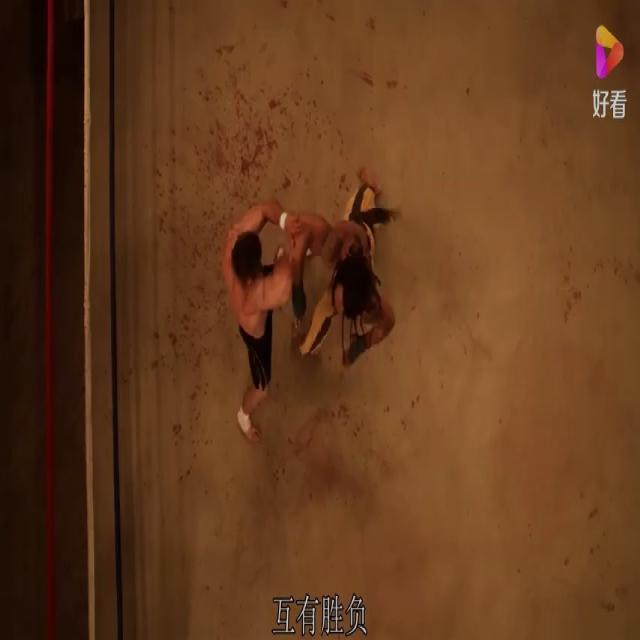fight: (224, 183, 397, 441)
